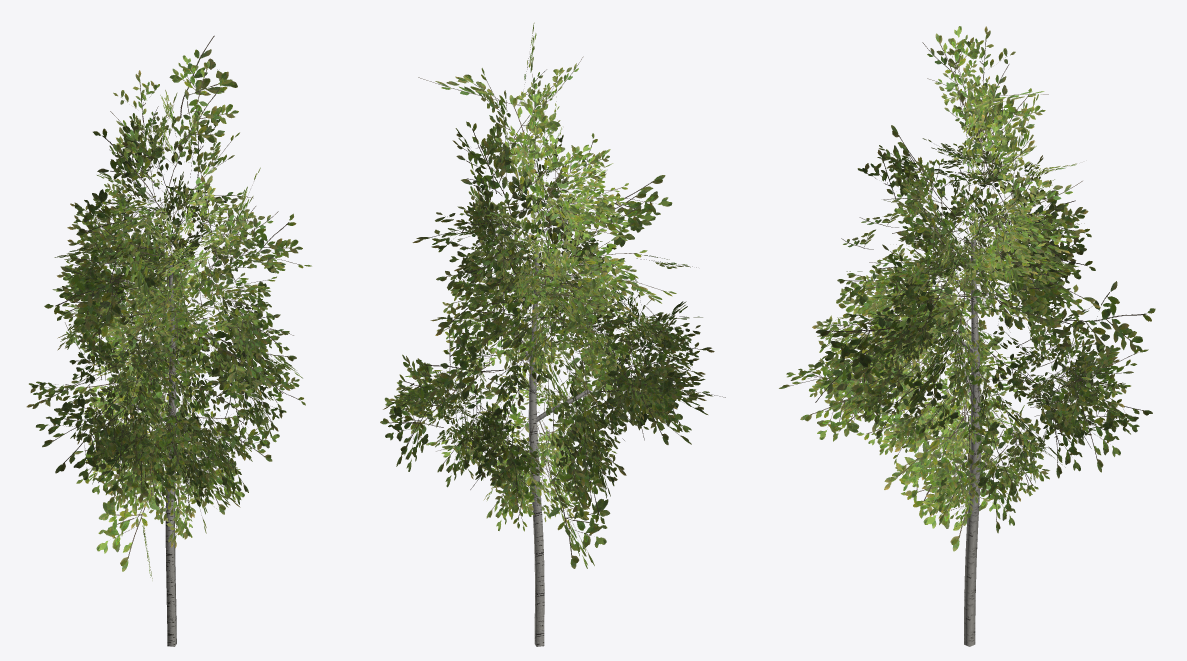
The model's file is tree_birch_v1_l1.glb.
The picture shows the model from 3 angles, left to right: view 1: azimuth 30°, elevation 25°; view 2: azimuth 150°, elevation 25°; view 3: azimuth 270°, elevation 25°; orthographic projection. The views are drawn at different scales.
Visible parts, largest first — view 1: tree_birch_v1_l1; view 2: tree_birch_v1_l1; view 3: tree_birch_v1_l1.
Boxes of the visible parts, left/top/right/bottom form: tree_birch_v1_l1: left=26, top=35, right=311, bottom=646; tree_birch_v1_l1: left=380, top=22, right=725, bottom=646; tree_birch_v1_l1: left=779, top=26, right=1155, bottom=646.
Bounding box in the file's own units: 6.07 × 11.94 × 6.95.
2 materials, 2 textured.
